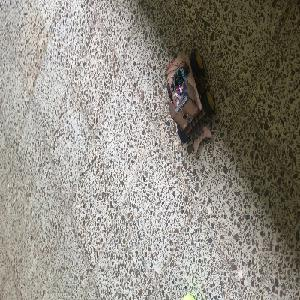Ball: (182, 294, 195, 299)
Robot: (164, 46, 215, 154)
